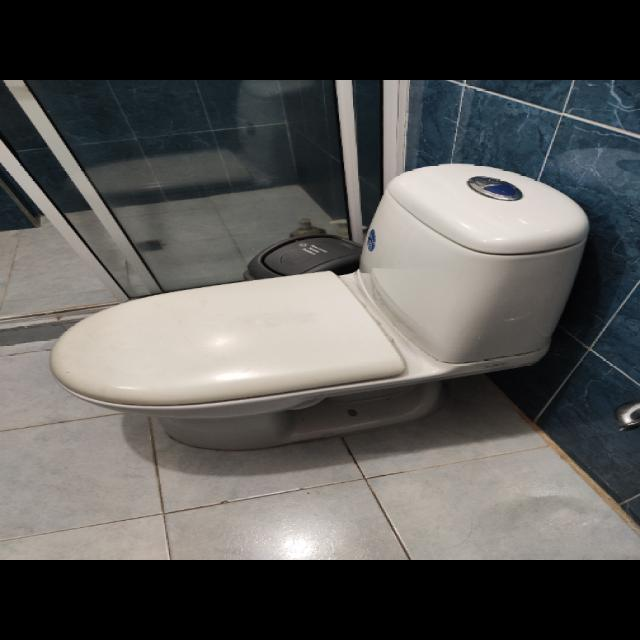toilet: (48, 162, 589, 451)
